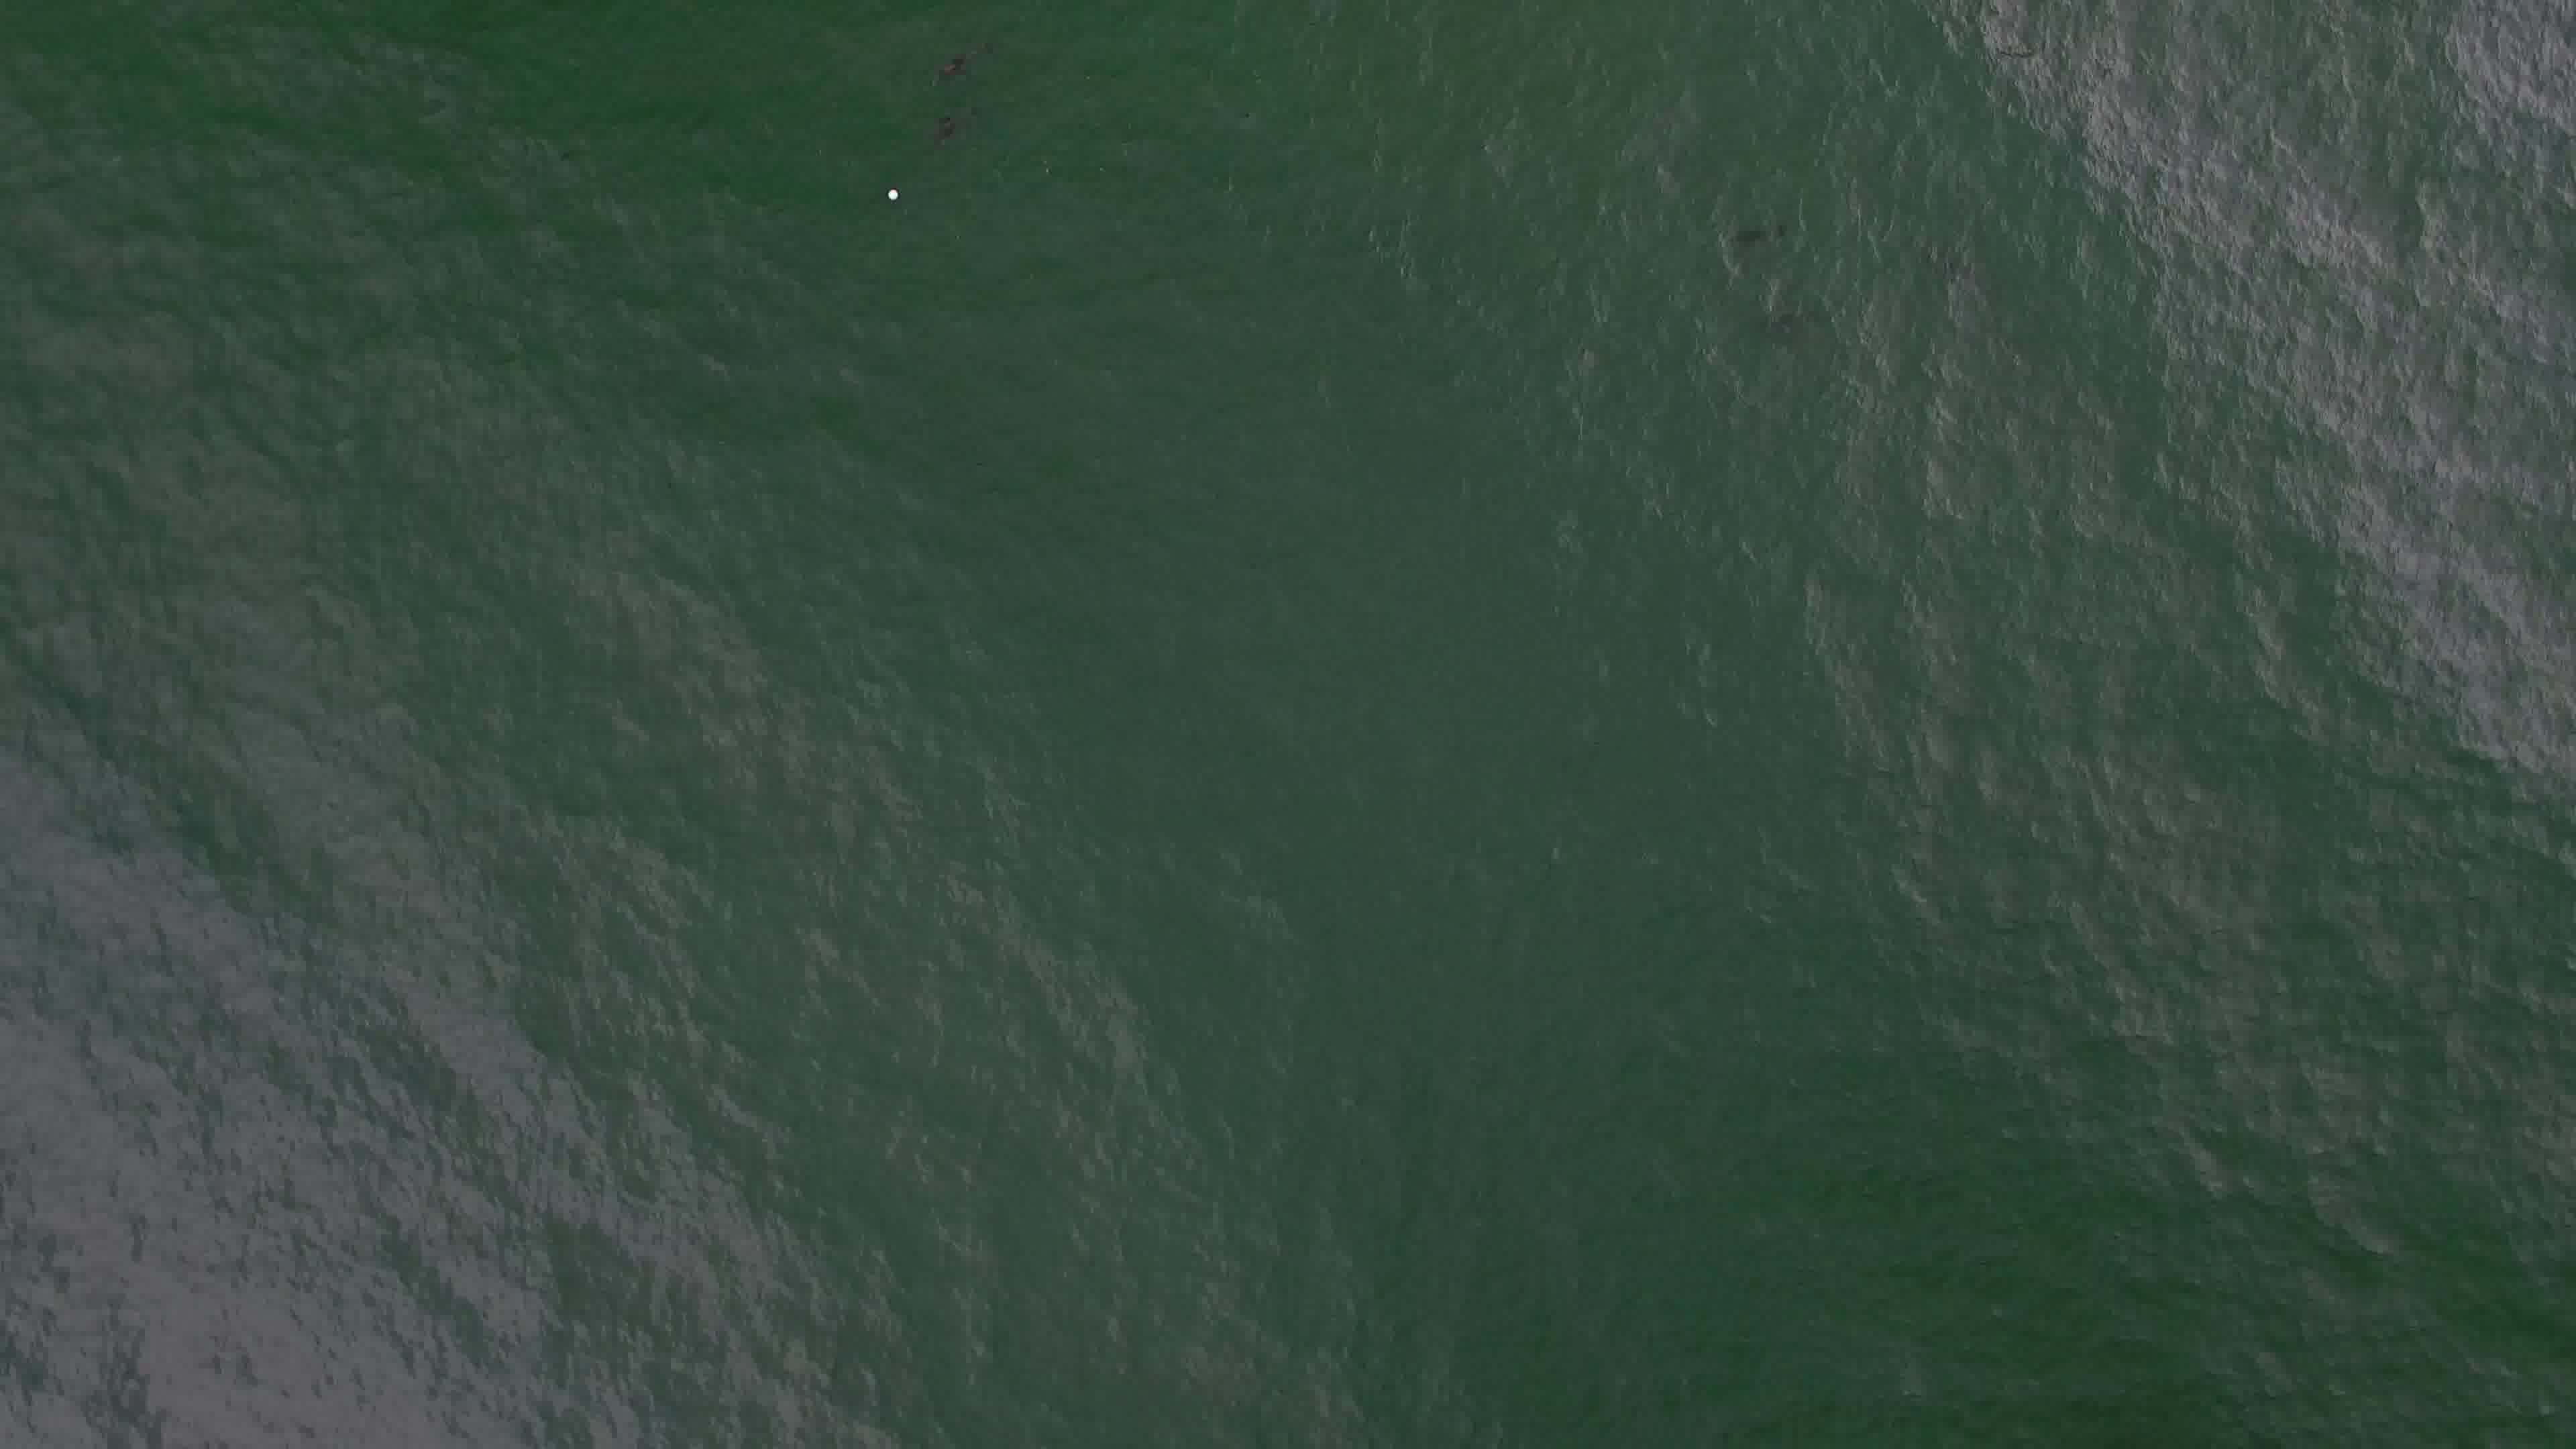dolphin: (899, 81, 996, 149), (1709, 200, 1798, 267), (920, 27, 993, 83)
